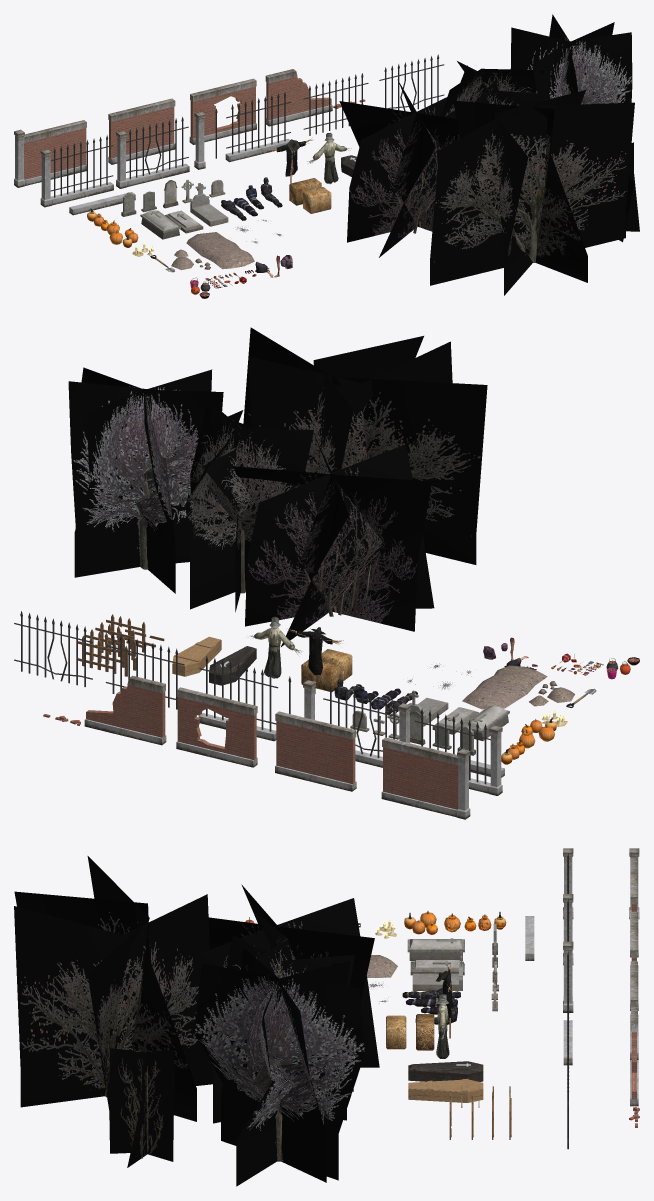
The model's file is halloween.fbx.
3 views of the same model, one above another, from view 1: azimuth 30°, elevation 25°; view 2: azimuth 150°, elevation 25°; view 3: azimuth 270°, elevation 25° (orthographic). The views are drawn at different scales.
Parts seen in each view (by area): view 1: Tree_04, Tree_02, Tree, Wall, Tree_01, Wall_01, Wall_02, Wall_03, Fence_Metal, Fence_Metal_01, Fence_Metal_03, Farmland (+12 smaller); view 2: Tree_04, Tree_02, Tree, Tree_01, Wall, Wall_01, Wall_02, Wall_03, Fence_Metal, Farmland, Fence_Metal_01, Fence_Metal_03 (+7 smaller); view 3: Tree_04, Tree, Tree_02, Tree_03, Tree_01, Stone_08, Coffin_01, Stone_06, Coffin_Top_01, Wall_03, Coffin_Top, Straw_01 (+12 smaller).
Part boxes in pixels (bbox=[...]): Tree_04: bbox=[430, 90, 634, 295]; Tree_02: bbox=[339, 79, 471, 257]; Tree: bbox=[510, 14, 632, 104]; Wall: bbox=[14, 120, 86, 187]; Tree_01: bbox=[441, 61, 547, 116]; Wall_01: bbox=[108, 98, 175, 164]; Wall_02: bbox=[189, 78, 256, 144]; Wall_03: bbox=[265, 69, 332, 126]; Fence_Metal: bbox=[40, 135, 113, 207]; Fence_Metal_01: bbox=[116, 117, 189, 188]; Fence_Metal_03: bbox=[225, 92, 290, 162]; Farmland: bbox=[186, 232, 254, 269]; Tree_04: bbox=[243, 327, 487, 564]; Tree_02: bbox=[233, 433, 434, 646]; Tree: bbox=[68, 367, 223, 593]; Tree_01: bbox=[185, 402, 313, 612]; Wall: bbox=[381, 737, 470, 819]; Wall_01: bbox=[275, 711, 356, 791]; Wall_02: bbox=[176, 687, 257, 767]; Wall_03: bbox=[84, 675, 166, 745]; Fence_Metal: bbox=[414, 708, 502, 795]; Farmland: bbox=[462, 665, 547, 709]; Fence_Metal_01: bbox=[323, 686, 411, 767]; Fence_Metal_03: bbox=[198, 656, 278, 741]; Tree_04: bbox=[14, 856, 212, 1121]; Tree: bbox=[194, 947, 365, 1186]; Tree_02: bbox=[189, 884, 379, 1091]; Tree_03: bbox=[109, 1046, 174, 1167]; Tree_01: bbox=[213, 911, 354, 1123]; Stone_08: bbox=[407, 938, 464, 960]; Coffin_01: bbox=[408, 1083, 483, 1102]; Stone_06: bbox=[412, 951, 462, 990]; Coffin_Top_01: bbox=[409, 1078, 483, 1092]; Wall_03: bbox=[630, 1007, 638, 1106]; Coffin_Top: bbox=[408, 1061, 482, 1073]; Straw_01: bbox=[386, 1015, 406, 1049].
Size of the model in its own units: 2418 by 772 by 2237.
